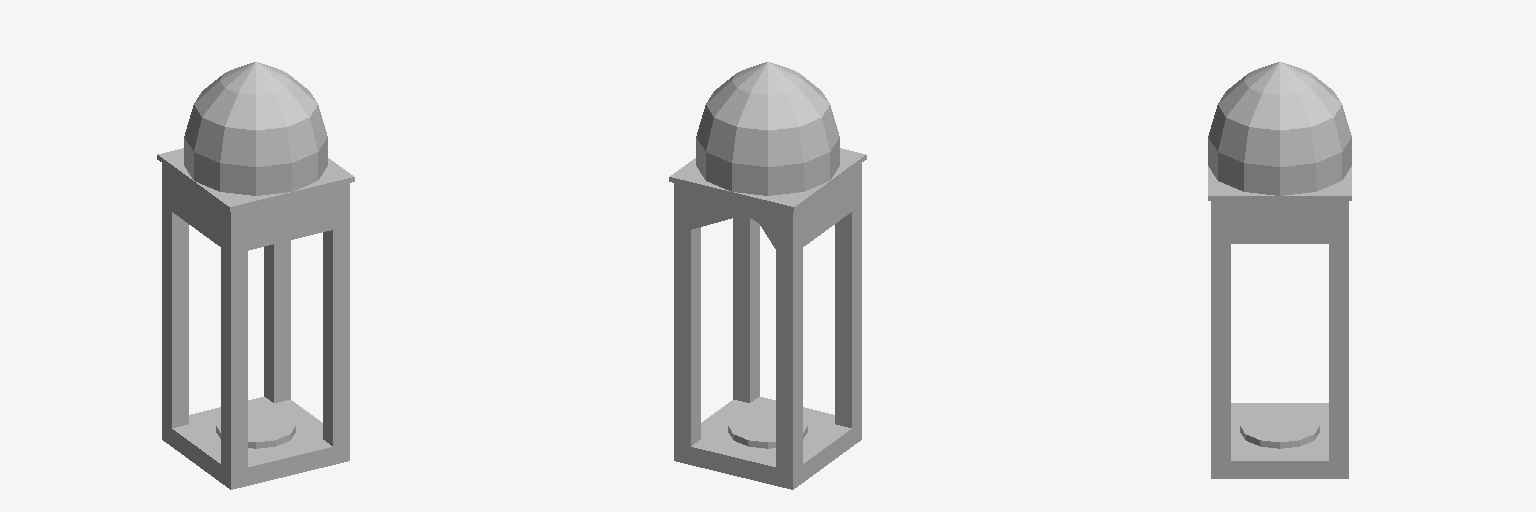
File: temple.obj
3 renders of one model, left to right at view 1: azimuth 30°, elevation 25°; view 2: azimuth 150°, elevation 25°; view 3: azimuth 270°, elevation 25°, orthographic.
Visible parts, largest first — view 1: Plane, Sphere_Sphere.001, Cylinder; view 2: Plane, Sphere_Sphere.001, Cylinder; view 3: Plane, Sphere_Sphere.001, Cylinder.
Part boxes in pixels (x1,y1,x2,y2): Plane: (157,148,354,489); Sphere_Sphere.001: (184,62,327,195); Cylinder: (216,409,295,448); Plane: (669,148,866,489); Sphere_Sphere.001: (696,62,839,195); Cylinder: (728,409,807,448); Plane: (1208,135,1351,478); Sphere_Sphere.001: (1208,62,1351,195); Cylinder: (1240,409,1319,448).
Bounding box in the file's own units: 1.63 × 4.85 × 1.63.